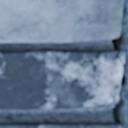brick: (0, 51, 120, 108), (0, 0, 123, 41), (0, 123, 123, 127), (119, 52, 124, 59)
crack: (111, 2, 127, 125), (70, 50, 101, 86)
